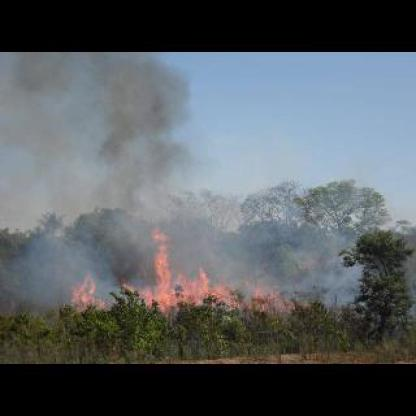fire: (65, 218, 292, 314)
